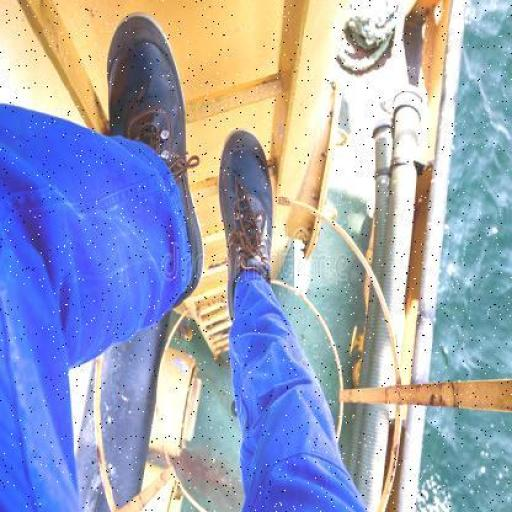safety_shoe: (98, 25, 213, 305), (219, 123, 279, 311)
